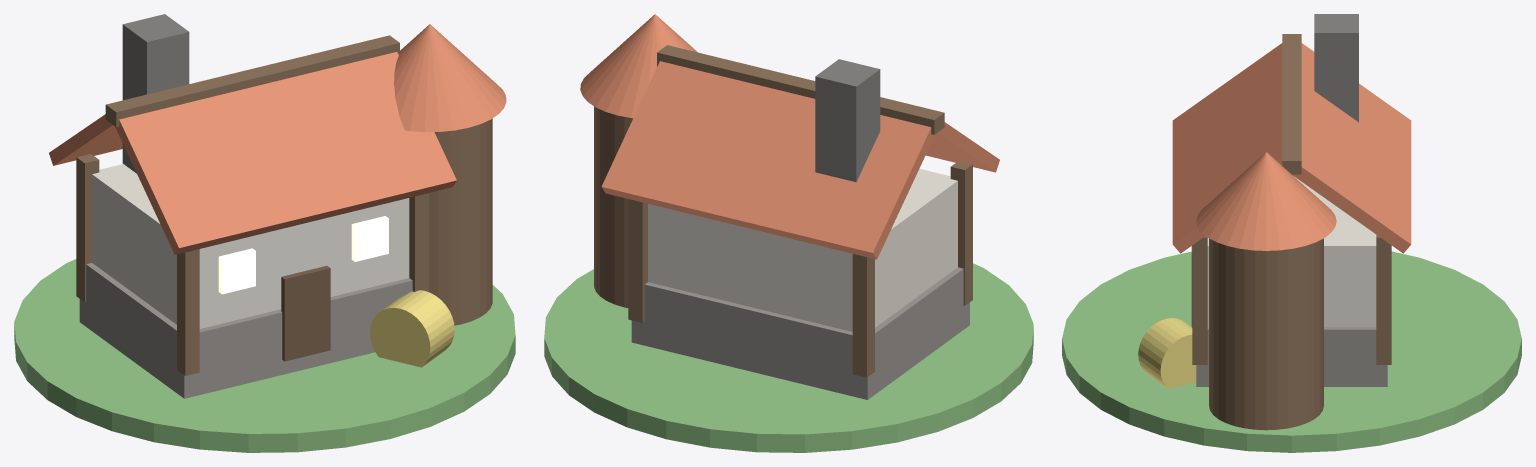
The model's file is building_farm.glb.
3 renders of one model, left to right at view 1: azimuth 30°, elevation 25°; view 2: azimuth 150°, elevation 25°; view 3: azimuth 270°, elevation 25°, orthographic. The views are drawn at different scales.
Visible parts, largest first — view 1: Cube.007, Cylinder, Cube.001, Cube, Cylinder.001, Cone, Cube.008, Cube.009, Cylinder.002, Cube.010, Cube.002, Cube.003 (+4 smaller); view 2: Cylinder, Cube.006, Cube.001, Cube, Cube.009, Cylinder.001, Cone, Cube.008, Cube.003, Cube.005, Cube.002, Cube.007; view 3: Cylinder, Cylinder.001, Cube.006, Cube.007, Cone, Cube.001, Cube.009, Cube, Cylinder.002, Cube.008, Cube.005, Cube.004.
Boxes of the visible parts, <box> form: Cube.007: <box>115,52,456,254</box>; Cylinder: <box>14,259,515,452</box>; Cube.001: <box>92,164,409,328</box>; Cube: <box>79,263,412,398</box>; Cylinder.001: <box>429,118,492,325</box>; Cone: <box>394,24,506,132</box>; Cube.008: <box>105,35,399,127</box>; Cube.009: <box>122,14,189,173</box>; Cylinder.002: <box>370,290,454,367</box>; Cube.010: <box>281,265,330,361</box>; Cube.002: <box>177,249,199,375</box>; Cube.003: <box>76,154,99,302</box>; Cylinder: <box>544,263,1033,452</box>; Cube.006: <box>601,61,935,259</box>; Cube.001: <box>648,169,957,331</box>; Cube: <box>631,267,969,399</box>; Cube.009: <box>815,59,880,182</box>; Cylinder.001: <box>594,106,632,307</box>; Cone: <box>580,14,697,118</box>; Cube.008: <box>657,45,944,134</box>; Cube.003: <box>852,254,874,377</box>; Cube.005: <box>628,199,647,322</box>; Cube.002: <box>950,161,972,305</box>; Cube.007: <box>925,122,999,172</box>; Cylinder: <box>1062,251,1521,452</box>; Cylinder.001: <box>1209,238,1323,430</box>; Cube.006: <box>1292,43,1411,253</box>; Cube.007: <box>1172,43,1282,253</box>; Cone: <box>1196,152,1336,250</box>; Cube.001: <box>1207,176,1376,326</box>; Cube.009: <box>1314,14,1358,122</box>; Cube: <box>1196,327,1387,386</box>; Cylinder.002: <box>1138,318,1196,389</box>; Cube.008: <box>1282,34,1301,174</box>; Cube.005: <box>1376,235,1391,364</box>; Cube.004: <box>1192,236,1207,364</box>.
Bounding box in the file's own units: 3.6 × 2.55 × 3.6.
